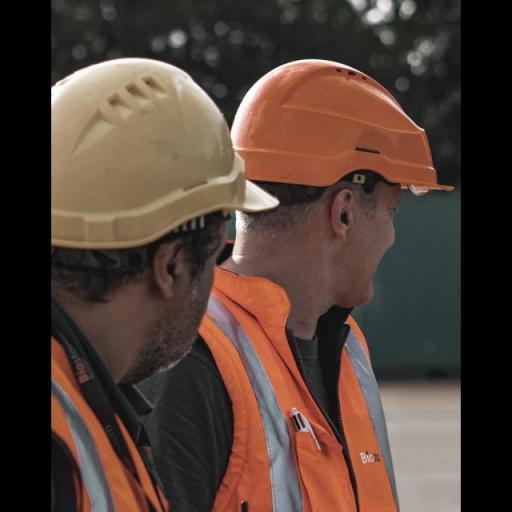Person: (148, 32, 453, 508), (48, 26, 306, 508)
helmet: (50, 56, 286, 256), (225, 43, 469, 215)
vest: (188, 248, 418, 512), (51, 288, 186, 512)
